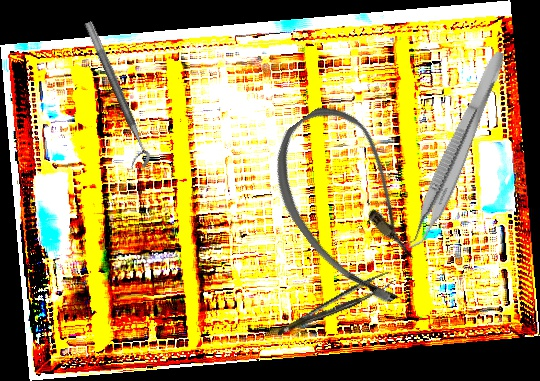Cannula: (248, 91, 457, 321)
Fixation Ring: (71, 20, 155, 173)
Tissue Forceps: (401, 44, 509, 257), (271, 271, 396, 336)
